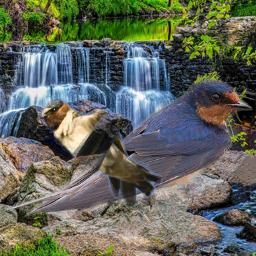Swallow: (4, 77, 252, 218), (38, 98, 163, 208)
